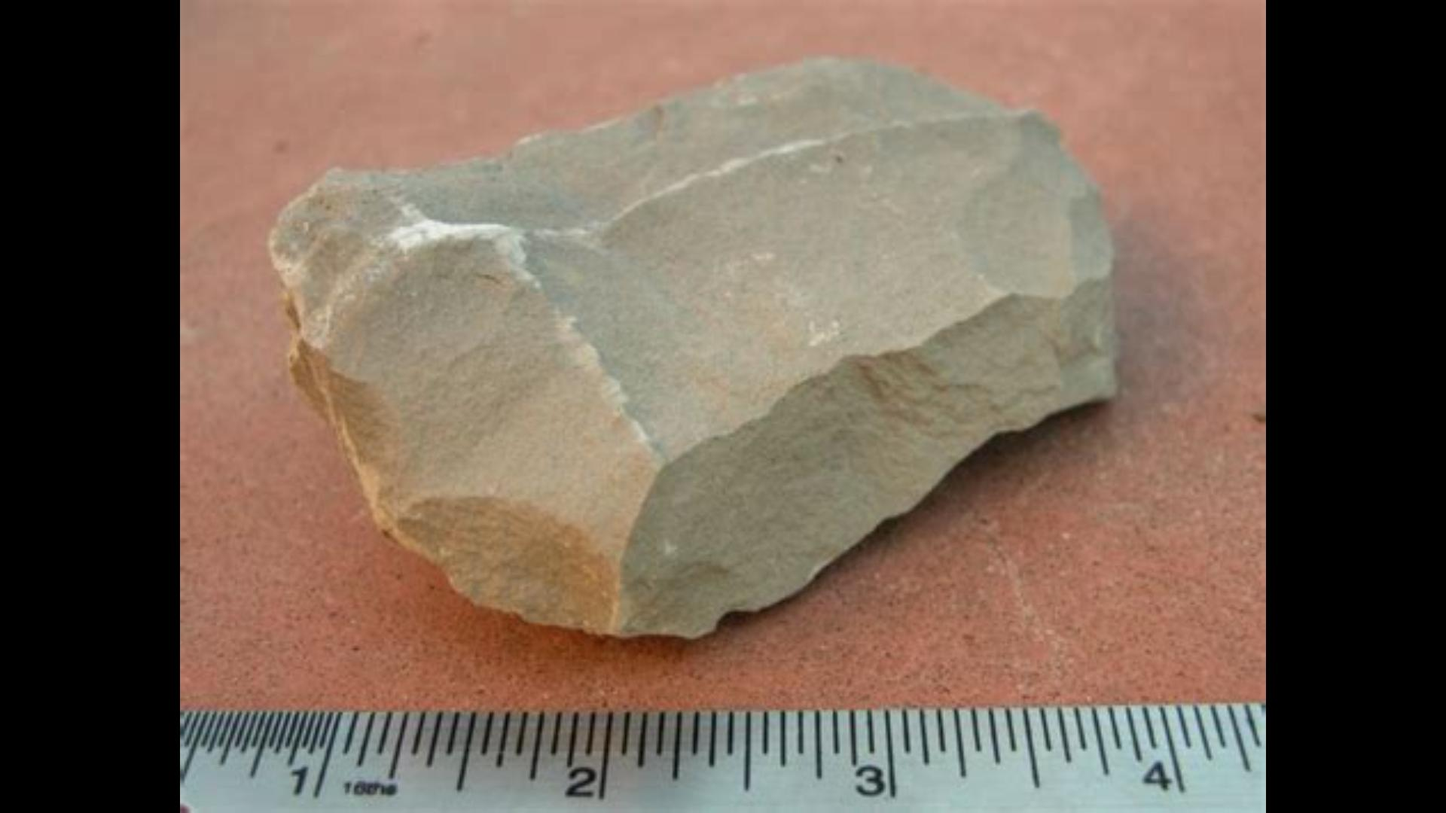rock: (272, 60, 1110, 632)
